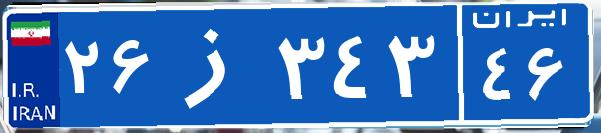2: (57, 26, 110, 107)
3: (385, 28, 445, 110), (273, 28, 330, 110)
4: (330, 28, 385, 110), (475, 38, 525, 113)
6: (110, 28, 158, 105), (525, 38, 570, 115)
ز: (158, 15, 273, 115)
